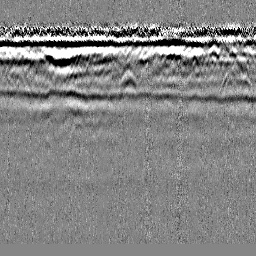cavity: (119, 67, 137, 91)
